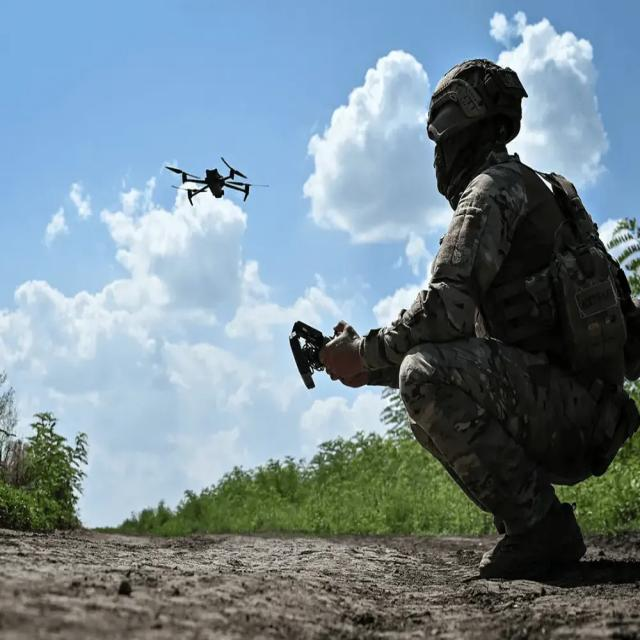drone: (164, 156, 269, 208)
